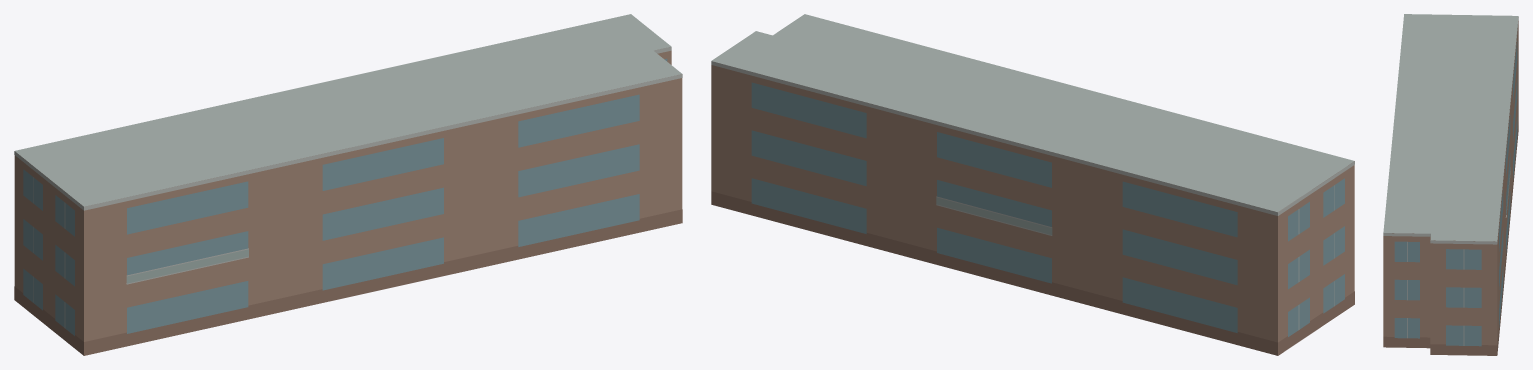
File: survey-upis-32753892.glb
3 views of the same model, side by side, from view 1: azimuth 30°, elevation 25°; view 2: azimuth 150°, elevation 25°; view 3: azimuth 270°, elevation 25° (orthographic). The views are drawn at different scales.
Visible parts, largest first — view 1: survey-upis-32753892.tmp; view 2: survey-upis-32753892.tmp; view 3: survey-upis-32753892.tmp.
Part boxes in pixels (x1=…): survey-upis-32753892.tmp: x1=14, y1=14, x2=682, y2=355; survey-upis-32753892.tmp: x1=711, y1=14, x2=1354, y2=355; survey-upis-32753892.tmp: x1=1383, y1=14, x2=1518, y2=355.
Bounding box in the file's own units: 39.02 × 9.15 × 9.81.
